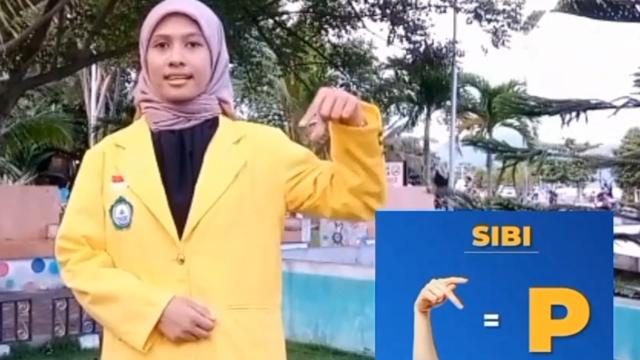P: (412, 275, 472, 319)
Q: (300, 83, 366, 143)
